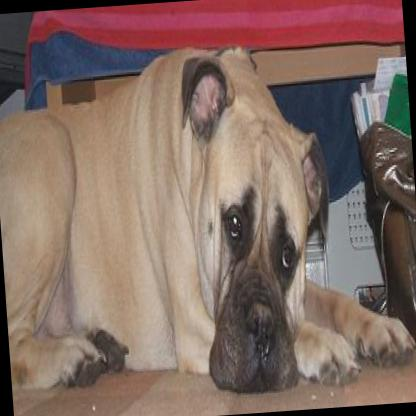bull_mastiff: (0, 25, 416, 411)
